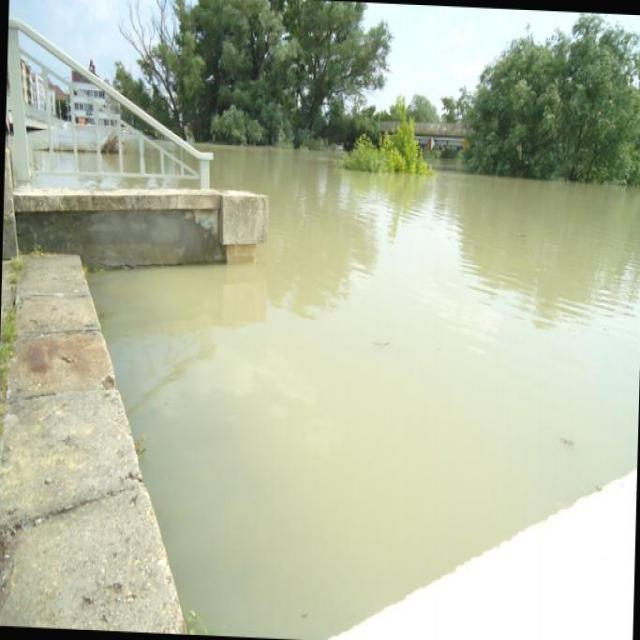flood: (86, 135, 639, 639)
